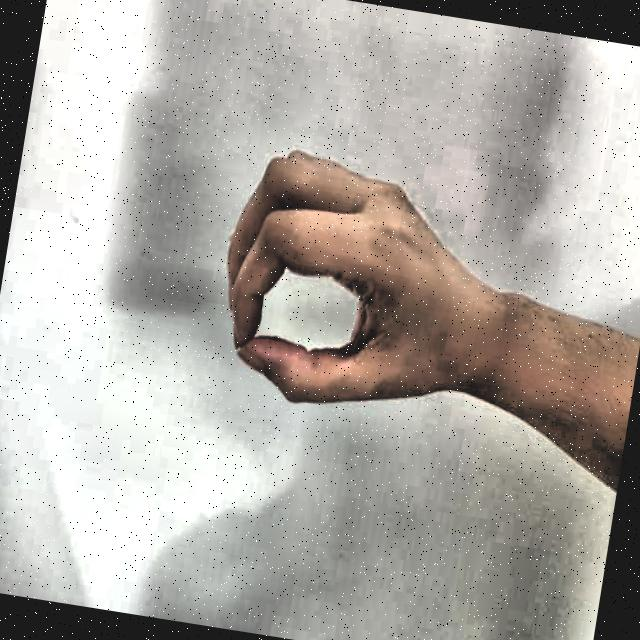O: (182, 96, 524, 480)
